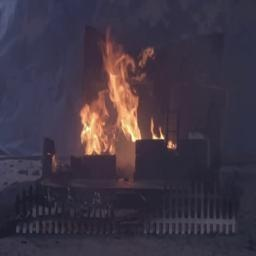fire: (72, 28, 174, 163)
